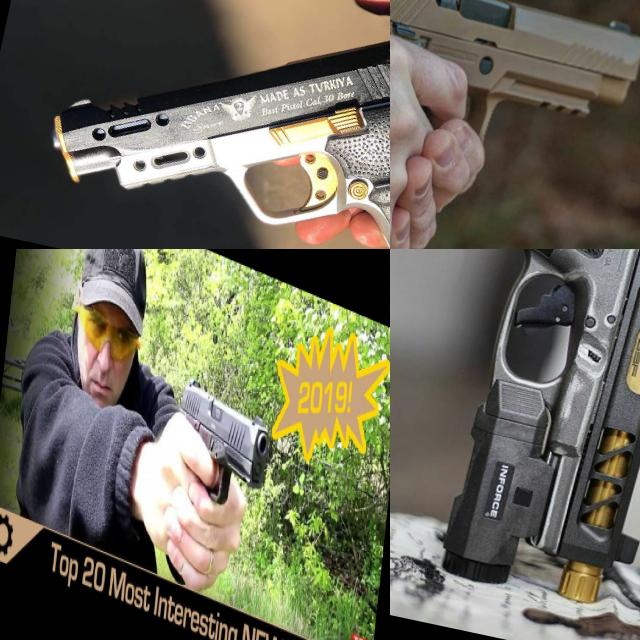handgun: (390, 249, 640, 635), (22, 0, 390, 249), (390, 0, 640, 214), (159, 370, 274, 618)
